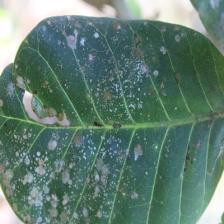red rust: (0, 14, 223, 224)
